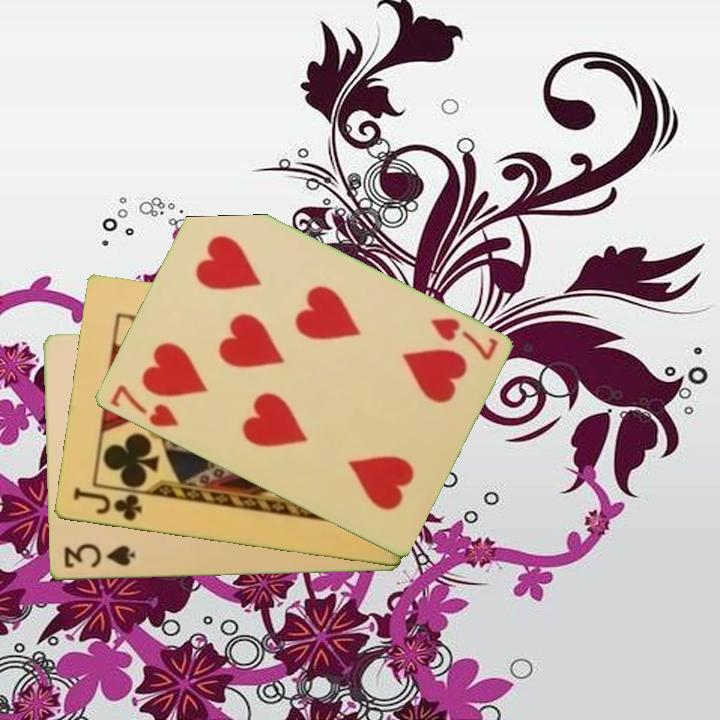3s: (60, 541, 138, 571)
7h: (106, 381, 181, 431), (426, 314, 501, 364)
Jc: (69, 484, 145, 525)
